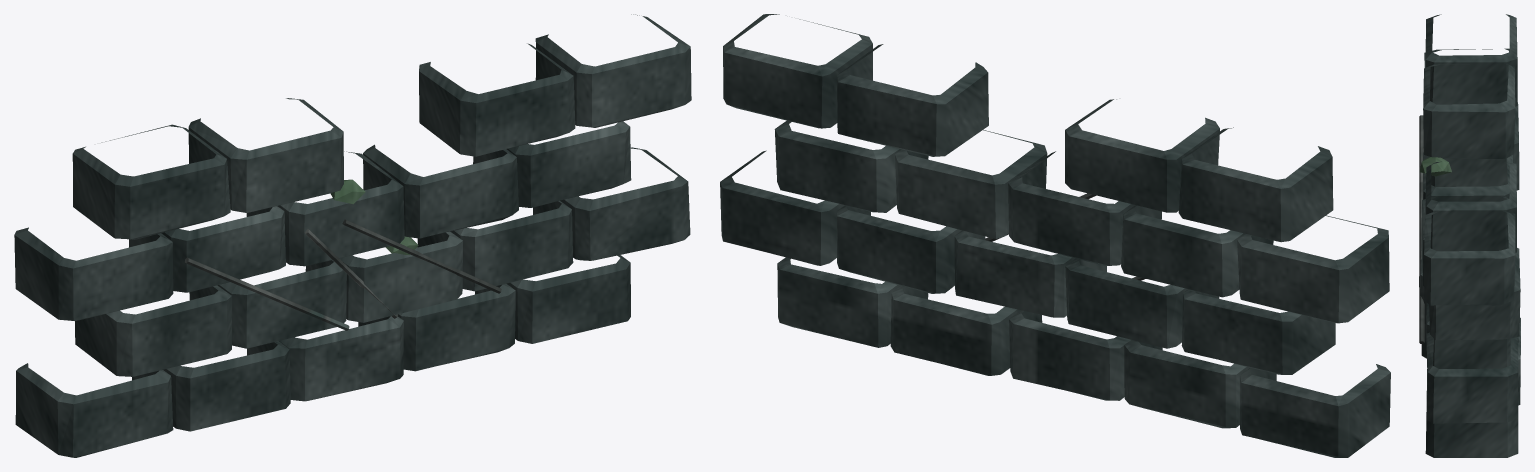
Rendered from 0335_wall_section_10.glb.
3 renders of one model, left to right at view 1: azimuth 30°, elevation 25°; view 2: azimuth 150°, elevation 25°; view 3: azimuth 270°, elevation 25°, orthographic. The views are drawn at different scales.
Parts seen in each view (by area): view 1: stone_dark, iron, moss; view 2: stone_dark; view 3: stone_dark, iron, moss.
Part boxes in pixels (box(x1,y1,x2,y2)): stone_dark: box(14, 14, 691, 457); iron: box(185, 219, 501, 330); moss: box(330, 179, 418, 254); stone_dark: box(720, 14, 1390, 457); stone_dark: box(1419, 14, 1520, 457); iron: box(1419, 115, 1424, 343); moss: box(1419, 157, 1451, 176).
Bounding box in the file's own units: 3.72 × 1.5 × 0.5957.
3 materials, 3 textured.
